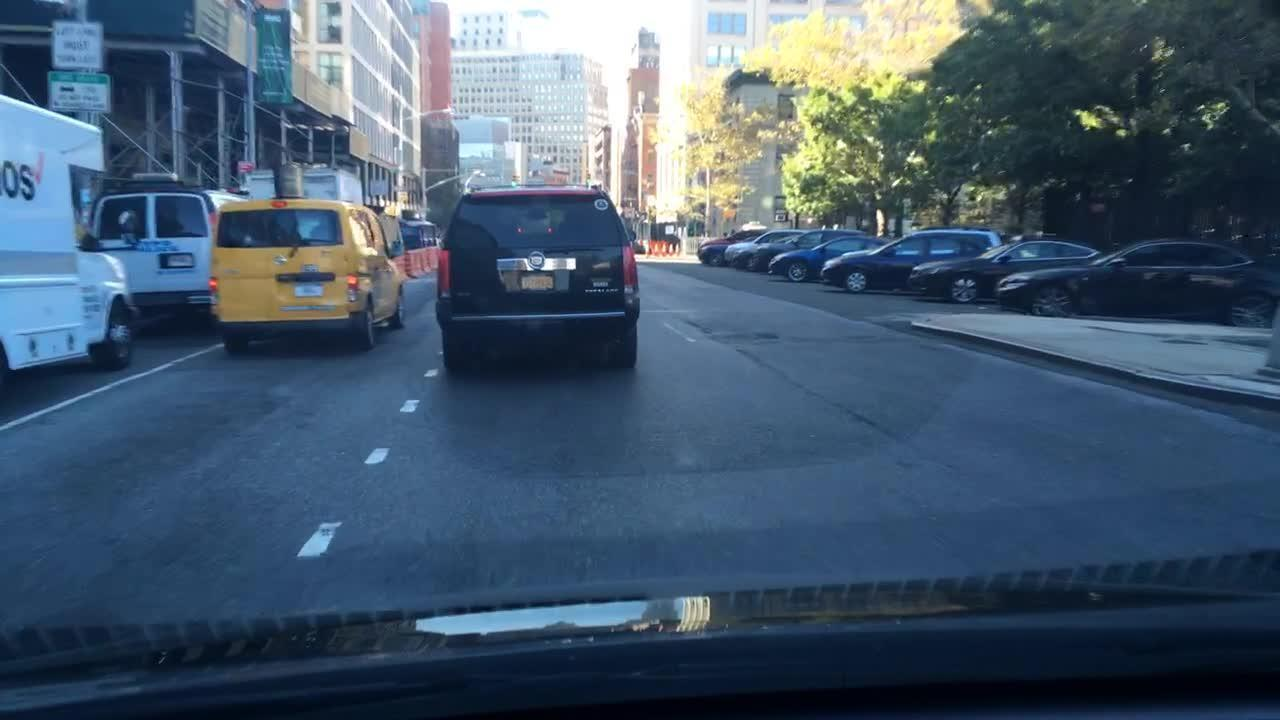cadillac: (523, 249, 552, 270)
